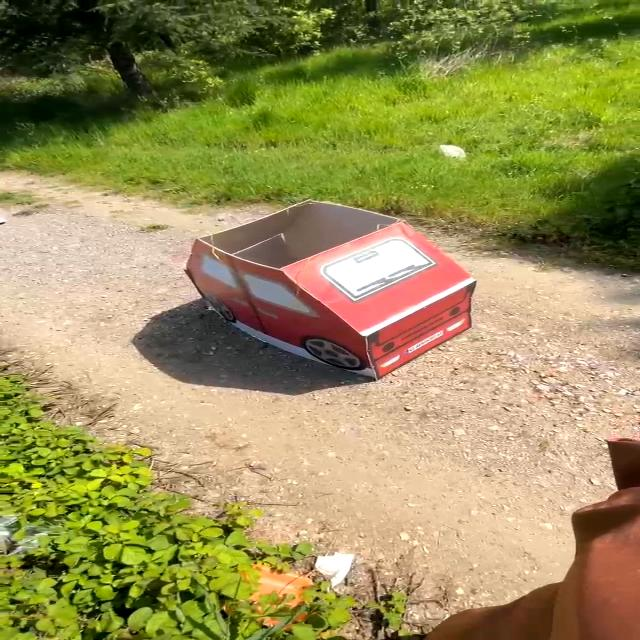red_car: (165, 191, 519, 385)
